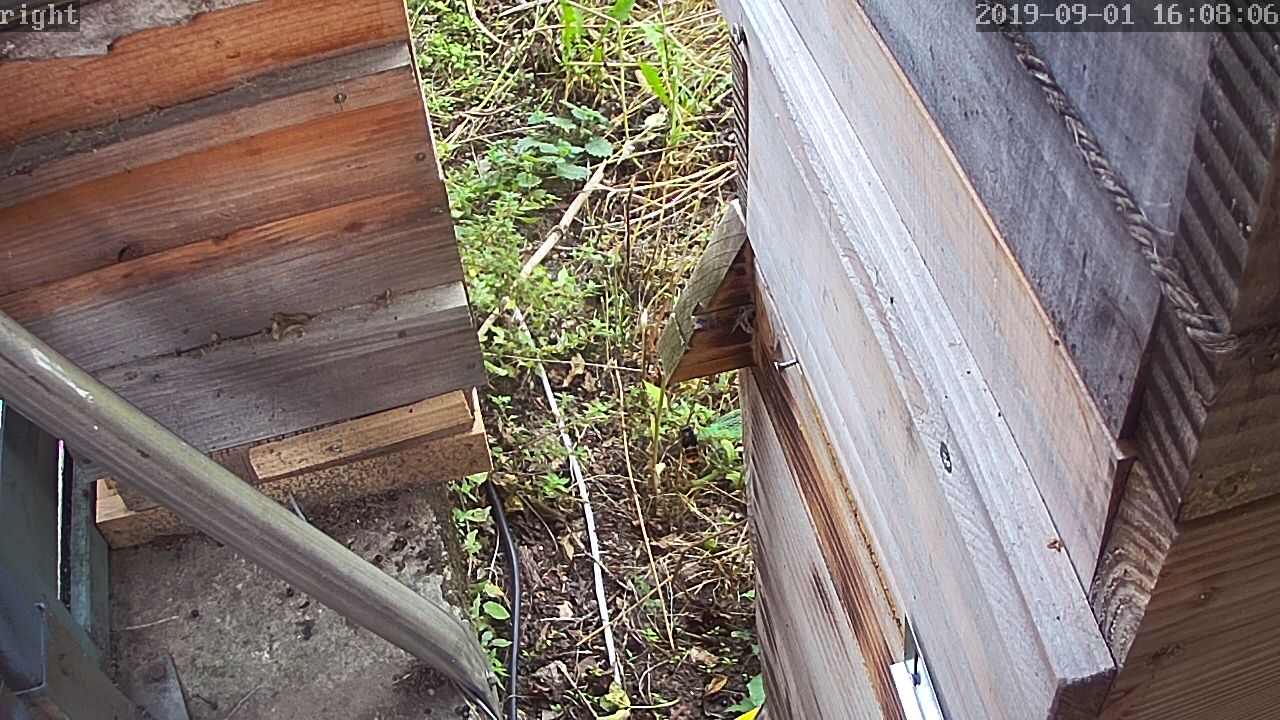hornet: (667, 417, 713, 478)
